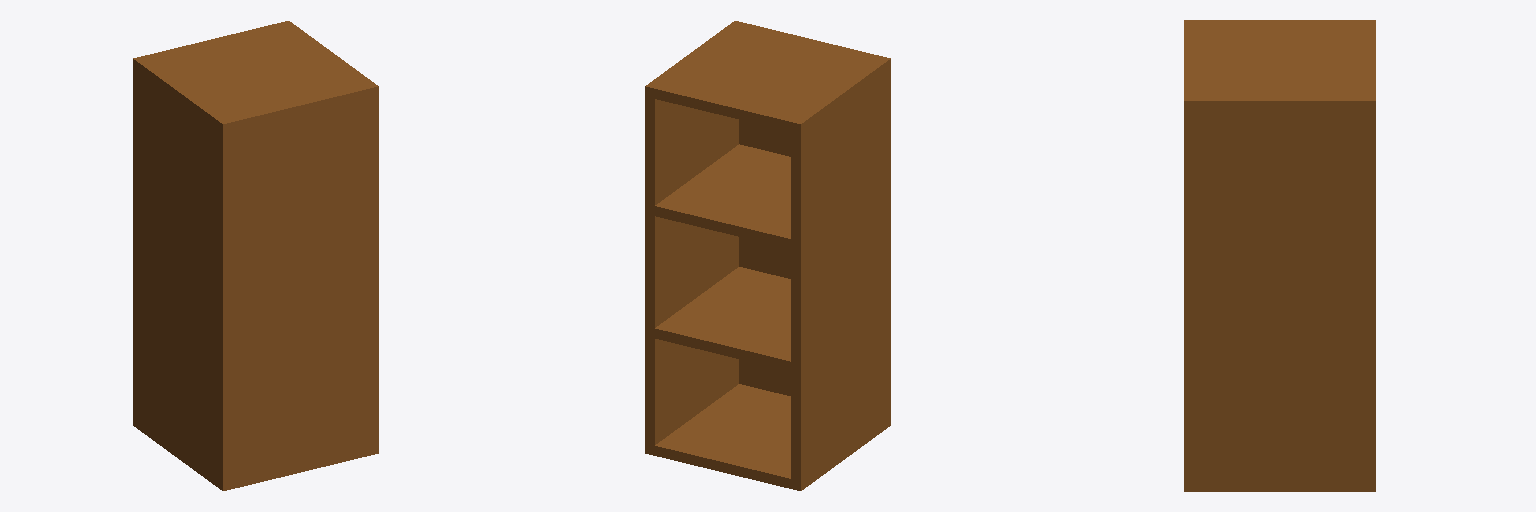
URDF robot description (shelf):
<?xml version="1.0"?>
<robot name="shelf">
  <material name="wood_mat">
    <color rgba="0.6 0.4 0.2 1.0"/>
  </material>

  <link name="base_link">
    <inertial>
      <mass value="50.0"/>
      <origin xyz="0 0 0.9" rpy="0 0 0"/>
      <inertia ixx="16.0" ixy="0" ixz="0" iyy="16.0" iyz="0" izz="5.3"/>
    </inertial>
    
    <!-- Bottom -->
    <visual>
      <origin xyz="0 0 0.025" rpy="0 0 0"/>
      <geometry><box size="0.8 0.8 0.05"/></geometry>
      <material name="wood_mat"/>
    </visual>
    <collision>
      <origin xyz="0 0 0.025" rpy="0 0 0"/>
      <geometry><box size="0.8 0.8 0.05"/></geometry>
    </collision>

    <!-- Top -->
    <visual>
      <origin xyz="0 0 1.775" rpy="0 0 0"/>
      <geometry><box size="0.8 0.8 0.05"/></geometry>
      <material name="wood_mat"/>
    </visual>
    <collision>
      <origin xyz="0 0 1.775" rpy="0 0 0"/>
      <geometry><box size="0.8 0.8 0.05"/></geometry>
    </collision>

    <!-- Left -->
    <visual>
      <origin xyz="-0.375 0 0.9" rpy="0 0 0"/>
      <geometry><box size="0.05 0.8 1.7"/></geometry>
      <material name="wood_mat"/>
    </visual>
    <collision>
      <origin xyz="-0.375 0 0.9" rpy="0 0 0"/>
      <geometry><box size="0.05 0.8 1.7"/></geometry>
    </collision>

    <!-- Right -->
    <visual>
      <origin xyz="0.375 0 0.9" rpy="0 0 0"/>
      <geometry><box size="0.05 0.8 1.7"/></geometry>
      <material name="wood_mat"/>
    </visual>
    <collision>
      <origin xyz="0.375 0 0.9" rpy="0 0 0"/>
      <geometry><box size="0.05 0.8 1.7"/></geometry>
    </collision>

    <!-- Back -->
    <visual>
      <origin xyz="0 -0.375 0.9" rpy="0 0 0"/>
      <geometry><box size="0.7 0.05 1.7"/></geometry>
      <material name="wood_mat"/>
    </visual>
    <collision>
      <origin xyz="0 -0.375 0.9" rpy="0 0 0"/>
      <geometry><box size="0.7 0.05 1.7"/></geometry>
    </collision>

    <!-- Shelf 1 -->
    <visual>
      <origin xyz="0 0.025 0.6" rpy="0 0 0"/>
      <geometry><box size="0.7 0.75 0.05"/></geometry>
      <material name="wood_mat"/>
    </visual>
    <collision>
      <origin xyz="0 0.025 0.6" rpy="0 0 0"/>
      <geometry><box size="0.7 0.75 0.05"/></geometry>
    </collision>

    <!-- Shelf 2 -->
    <visual>
      <origin xyz="0 0.025 1.2" rpy="0 0 0"/>
      <geometry><box size="0.7 0.75 0.05"/></geometry>
      <material name="wood_mat"/>
    </visual>
    <collision>
      <origin xyz="0 0.025 1.2" rpy="0 0 0"/>
      <geometry><box size="0.7 0.75 0.05"/></geometry>
    </collision>
  </link>
</robot>

--- What the picture shows (computed from the rendered views, not written in the file) ---
The picture shows the robot from 3 angles, left to right: view 1: azimuth 30°, elevation 25°; view 2: azimuth 150°, elevation 25°; view 3: azimuth 270°, elevation 25°; orthographic projection.
Model shelf with 1 links and 0 joints (none), rooted at base_link, posed all joints at 0.
Visible links, largest first — view 1: base_link; view 2: base_link; view 3: base_link.
Link boxes in pixels (x1,y1,x2,y2): base_link: [133, 21, 378, 490]; base_link: [645, 21, 890, 490]; base_link: [1184, 20, 1375, 491].
Size in the robot's own frame: 0.8 by 0.8 by 1.8 metres.
Geometry: primitives only (box / cylinder / sphere), no mesh files.
